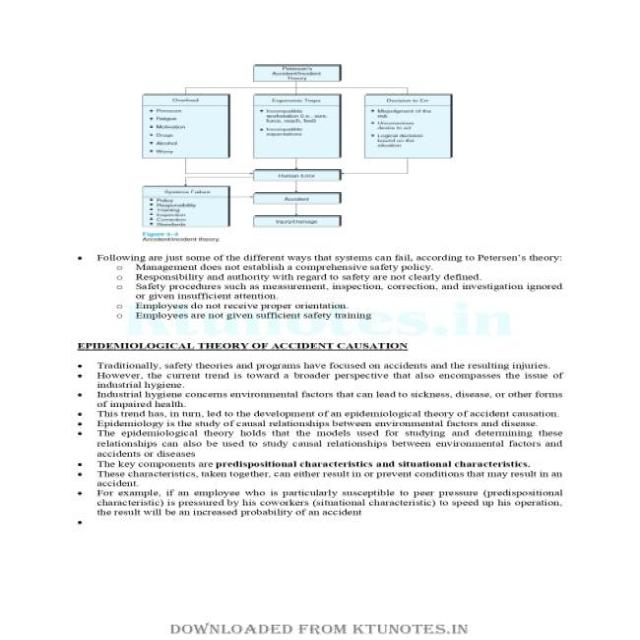Figure Detection - v3 Dataset Version2: (116, 52, 471, 232)
